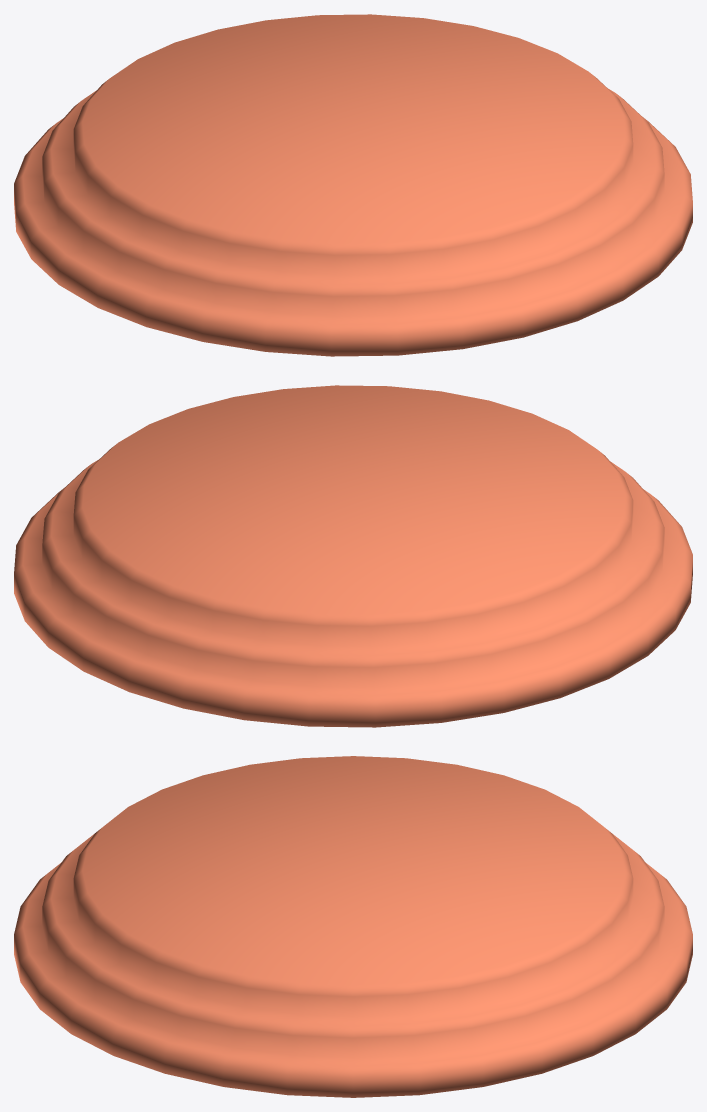
Rendered from brown_panggung.gltf.
The picture shows the model from 3 angles, top to bottom: view 1: azimuth 30°, elevation 25°; view 2: azimuth 150°, elevation 25°; view 3: azimuth 270°, elevation 25°; orthographic projection.
Parts seen in each view (by area): view 1: Cylinder; view 2: Cylinder; view 3: Cylinder.
Part boxes in pixels (x1,y1,x2,y2): Cylinder: (14, 14, 692, 356); Cylinder: (14, 385, 692, 727); Cylinder: (14, 756, 692, 1097).
Bounding box in the file's own units: 4.4 × 0.6 × 4.4.
